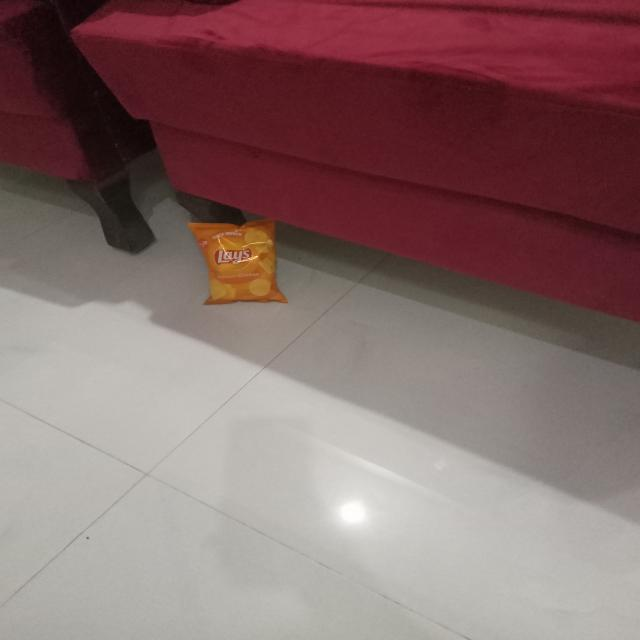Plastic: (186, 212, 292, 308)
